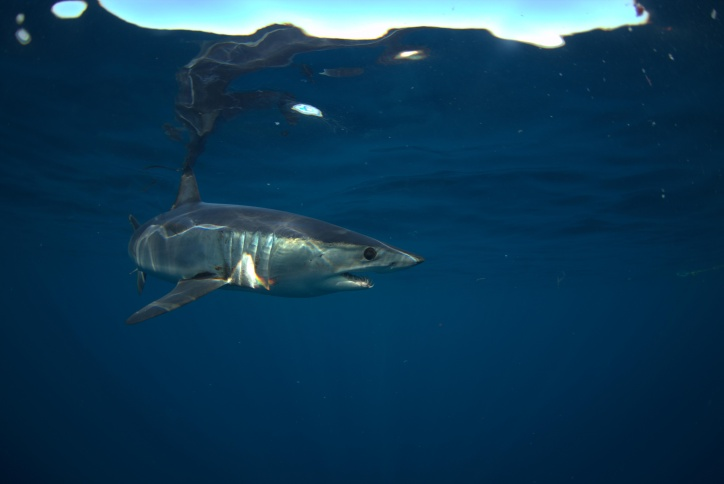Mako: (89, 162, 434, 334)
